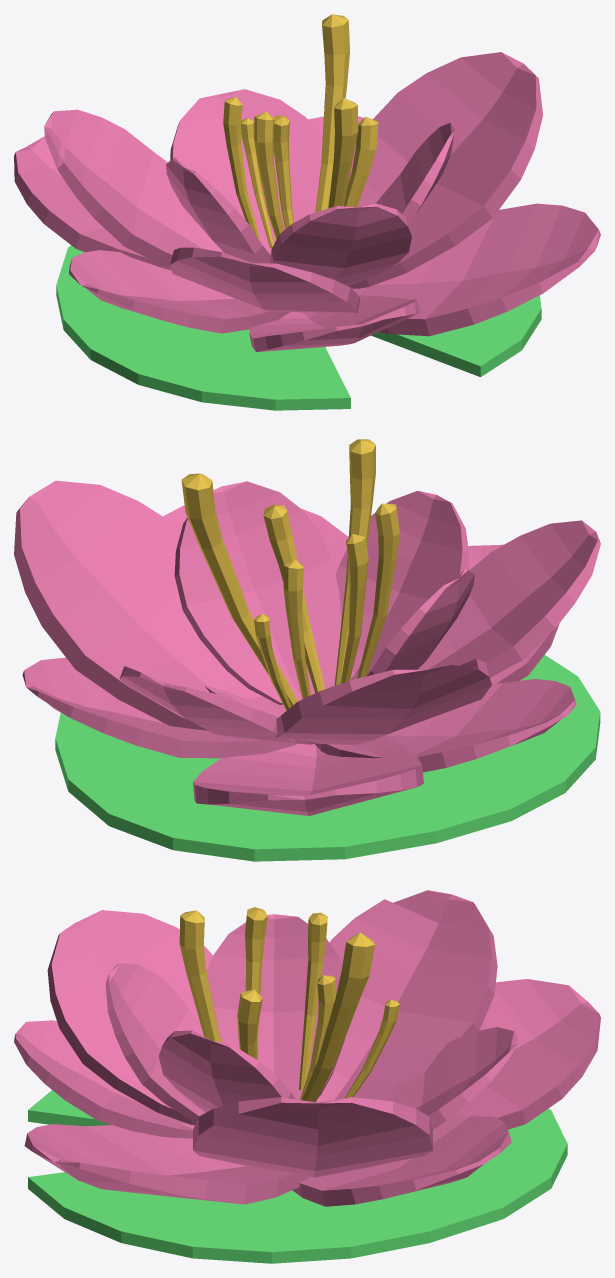
File: florabierta.fbx
3 renders of one model, top to bottom at view 1: azimuth 30°, elevation 25°; view 2: azimuth 150°, elevation 25°; view 3: azimuth 270°, elevation 25°, orthographic. The views are drawn at different scales.
Visible parts, largest first — view 1: Cylinder.002; view 2: Cylinder.002; view 3: Cylinder.002.
Boxes of the visible parts, x1,y1,x2,y2 form: Cylinder.002: (14,14,600,410); Cylinder.002: (14,439,600,861); Cylinder.002: (14,890,600,1263).
Size of the model in its own units: 440 by 224 by 457.
